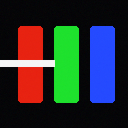3 line_h: (0, 60, 54, 66)
